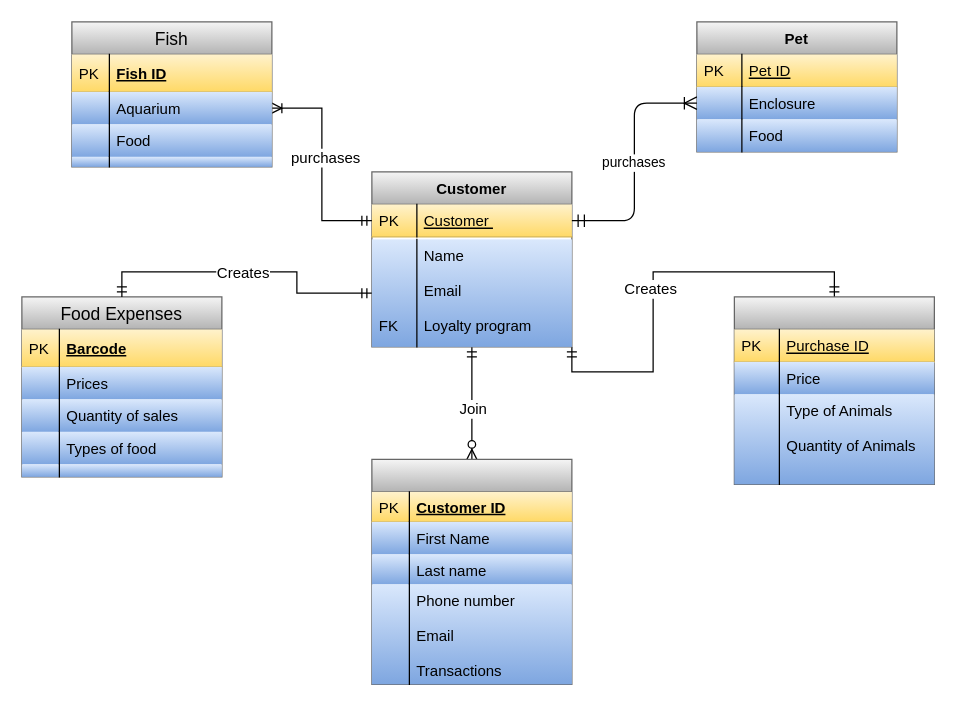
Some shapes in this 956 by 710 pixel diagram are drawn without their labels. Each missing label, with the box of its shape:
Loyalty Program/Points: (371, 458, 572, 684)
Pet Expenses: (733, 296, 934, 484)
